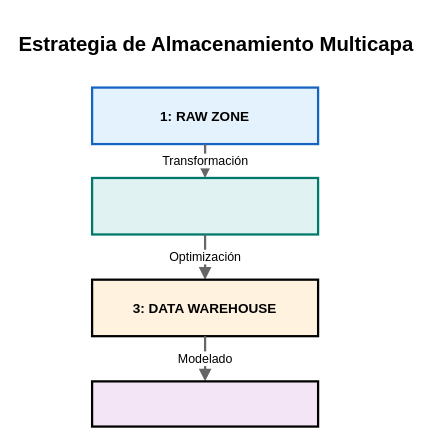
Image size: 435x446. Some labels were removed from this diagram. The centre of each missing label's shape, as x and y in pixels:
"2: PROCESSED ZONE" belongs at (x=204, y=205).
"4: ANÁLISIS" belongs at (x=204, y=403).
